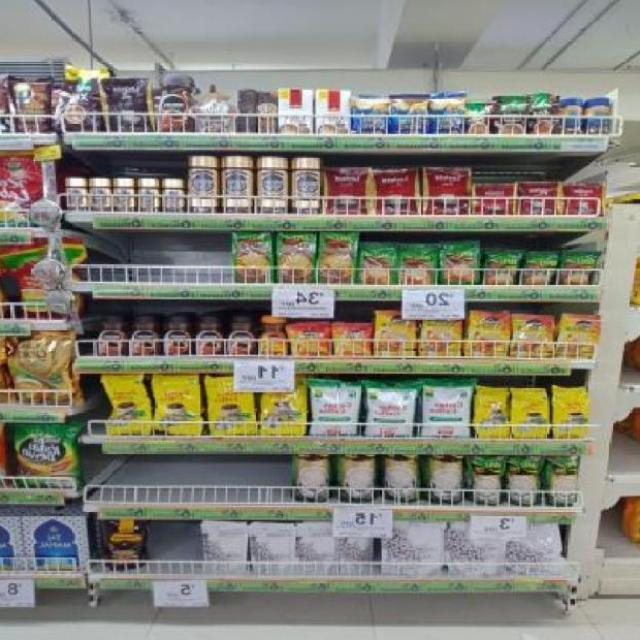Coffee: (157, 74, 194, 132), (556, 315, 599, 359), (291, 158, 323, 216), (468, 312, 510, 356), (374, 313, 414, 359), (510, 316, 553, 358), (222, 156, 252, 212), (189, 156, 218, 213), (258, 156, 287, 213), (419, 317, 460, 357), (196, 316, 225, 357), (164, 316, 192, 358), (228, 317, 257, 357), (334, 325, 370, 357), (291, 325, 326, 357), (131, 316, 158, 356), (260, 317, 287, 357), (99, 316, 124, 356), (137, 180, 158, 213), (163, 180, 184, 212), (89, 178, 109, 211), (67, 178, 86, 211), (115, 178, 133, 210)
